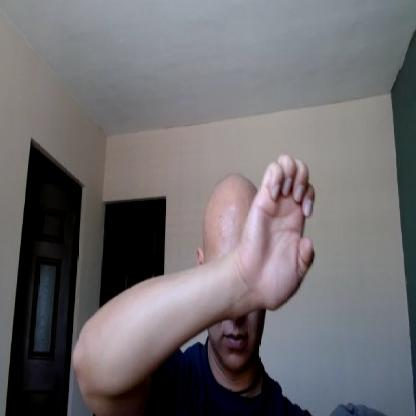E: (243, 154, 316, 313)
